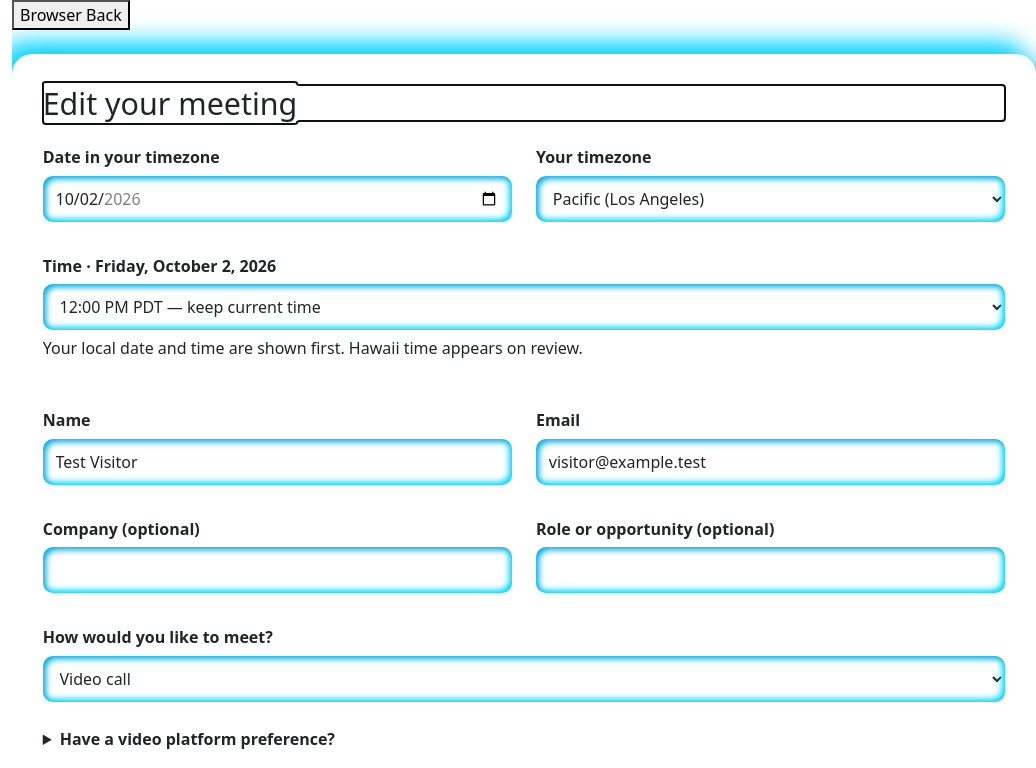
it: invalid fields have nearby messages and focus moves to the first invalid field
Expected: the dropdown labelled "Time · Friday, October 2, 2026" is enabled, [43,284,1005,330]
Replace the text in the field labelled "Email" with "invalid" at x=771, y=462, box [536,439,1005,485]
(page scrolled)
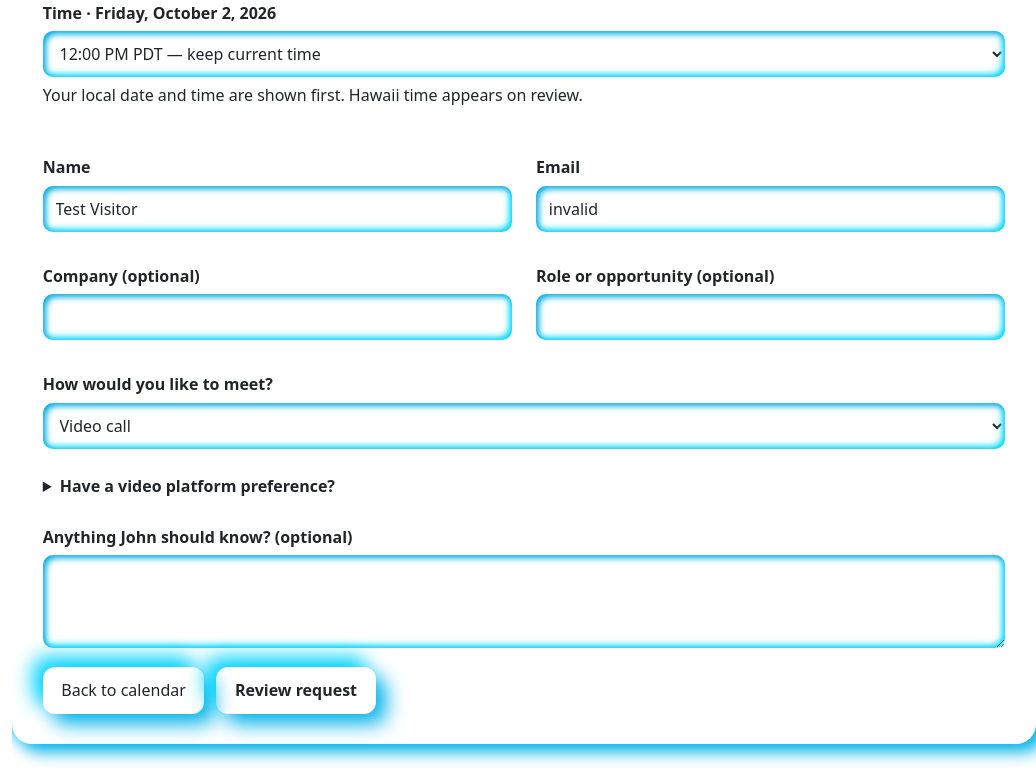
Click the button "Review request" at x=296, y=690, box [216,667,376,714]
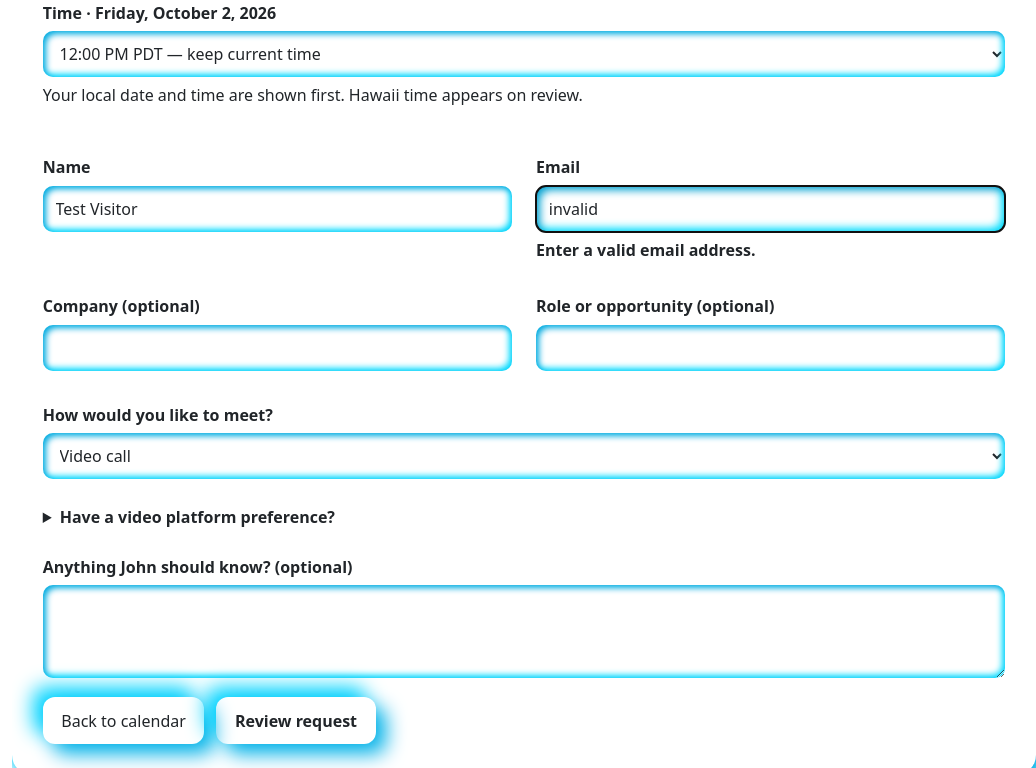
Expected: the text "Enter a valid email address." is shown, [536,239,756,261]
